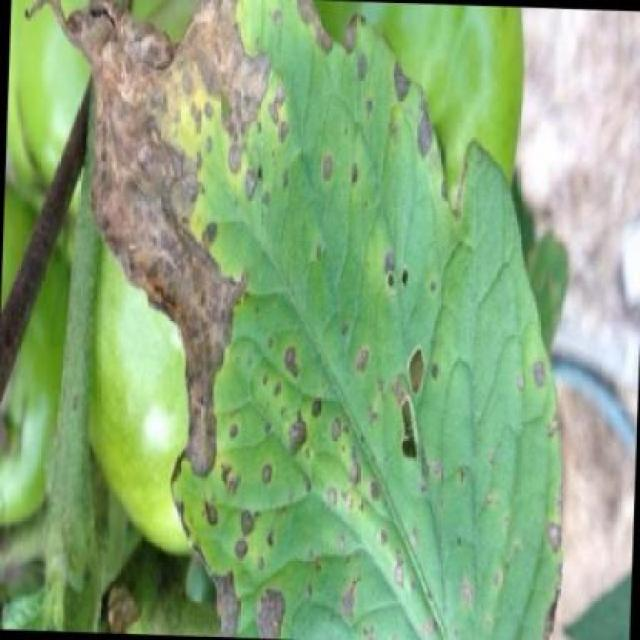Septoria leaf spot: (21, 0, 590, 638)
